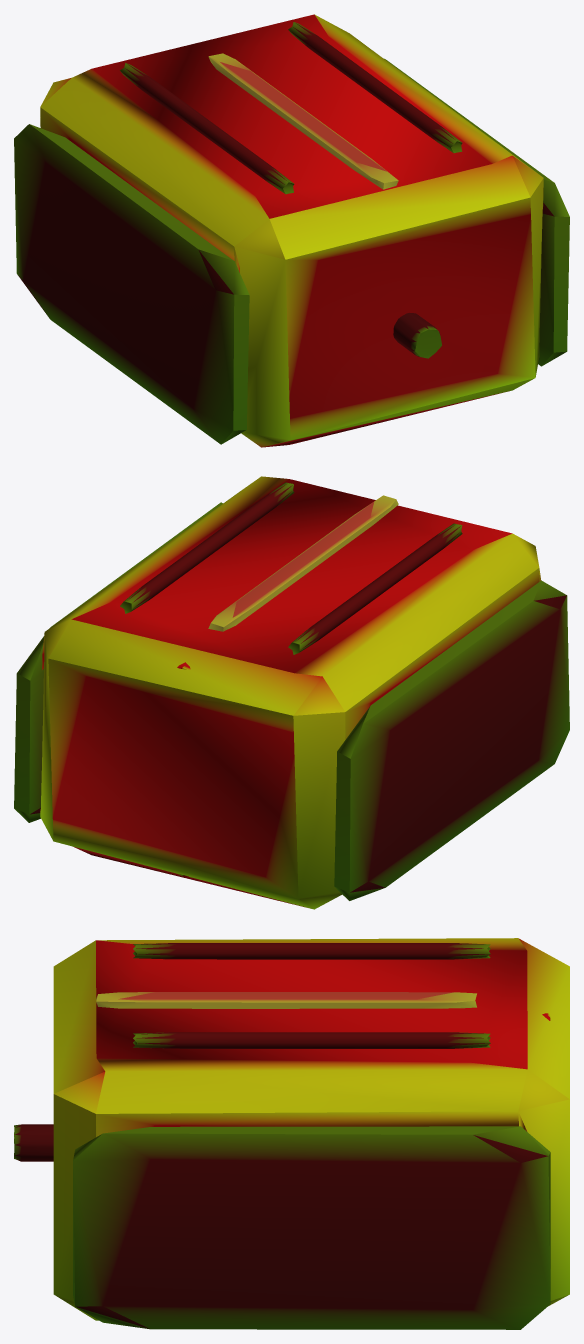
Rendered from RCLModule_skyguard_sam_solar_flare_radiation_shield_aps.fbx.
3 views of the same model, one above another, from view 1: azimuth 30°, elevation 25°; view 2: azimuth 150°, elevation 25°; view 3: azimuth 270°, elevation 25° (orthographic). The views are drawn at different scales.
Parts seen in each view (by area): view 1: RCLModule_skyguard_sam_solar_flare_radiation_shield_aps_Batc (×3); view 2: RCLModule_skyguard_sam_solar_flare_radiation_shield_aps_Batc (×3); view 3: RCLModule_skyguard_sam_solar_flare_radiation_shield_aps_Batc (×3).
Part boxes in pixels (x1,y1,x2,y2): RCLModule_skyguard_sam_solar_flare_radiation_shield_aps_Batc (×3): [14, 14, 569, 447]; RCLModule_skyguard_sam_solar_flare_radiation_shield_aps_Batc (×3): [14, 476, 569, 909]; RCLModule_skyguard_sam_solar_flare_radiation_shield_aps_Batc (×3): [14, 938, 569, 1329].
Bounding box in the file's own units: 34.46 × 23.52 × 44.18.
